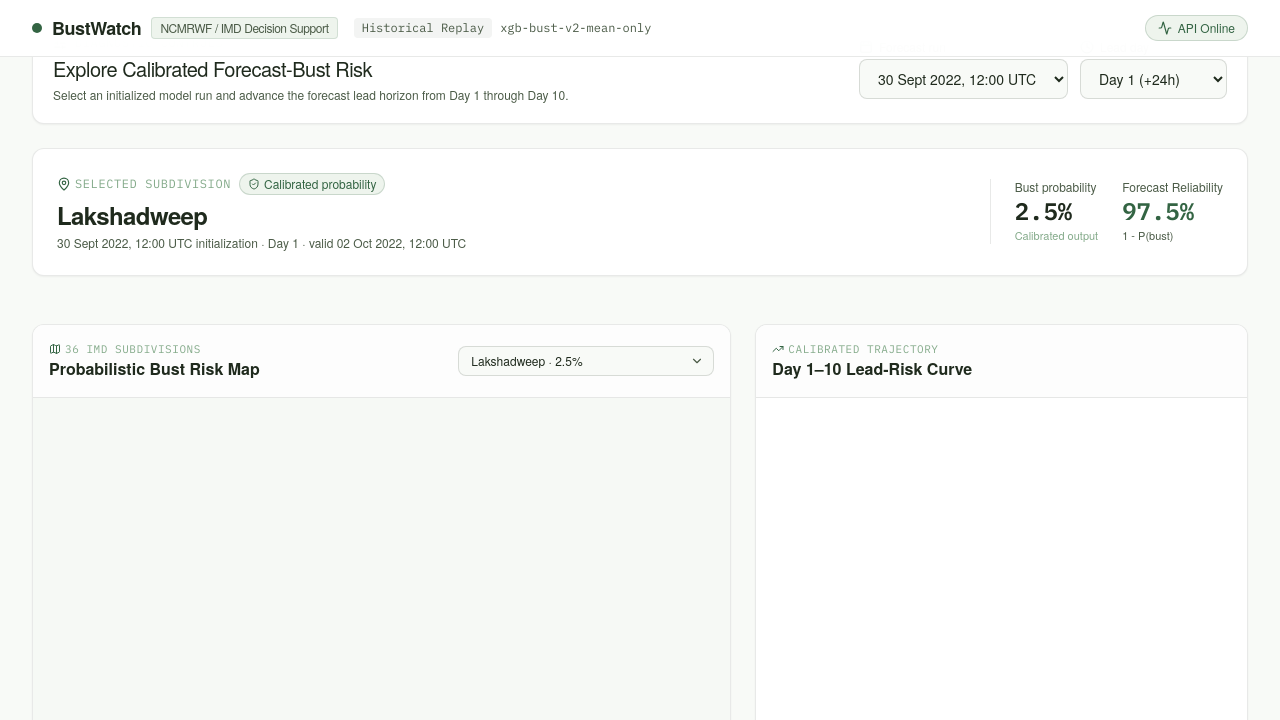
forecast dashboard › updates region summary, curve, and prediction evidence from keyboard selection
The image size is (1280, 720).
(page scrolled)
Expected: the heading "Lakshadweep" is shown, [57,198,207,232]
Select "Test Region 2 · 4.5%" in the dropdown named "Keyboard region selection" at [586, 361], box [458,346,714,376]
(page scrolled)
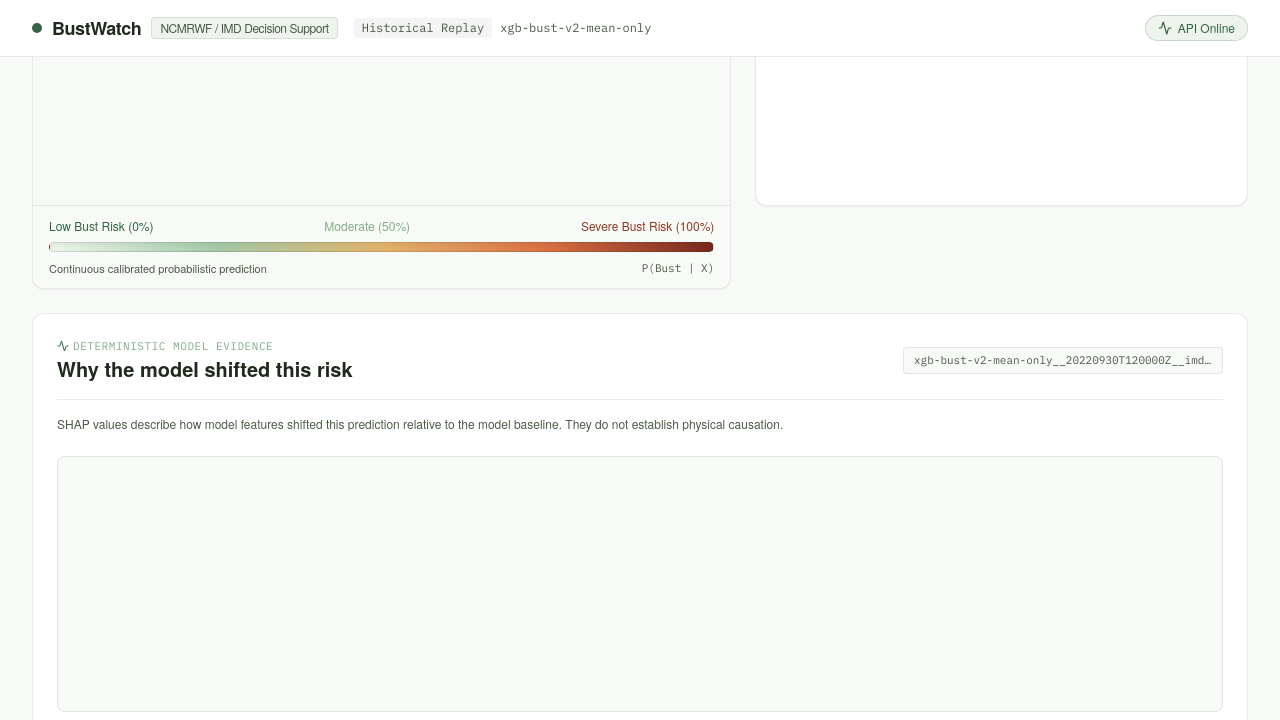
Now the text "xgb-bust-v2-mean-only__20220930T120000Z__imd-02__d01" is shown, box [903,347,1223,374]
